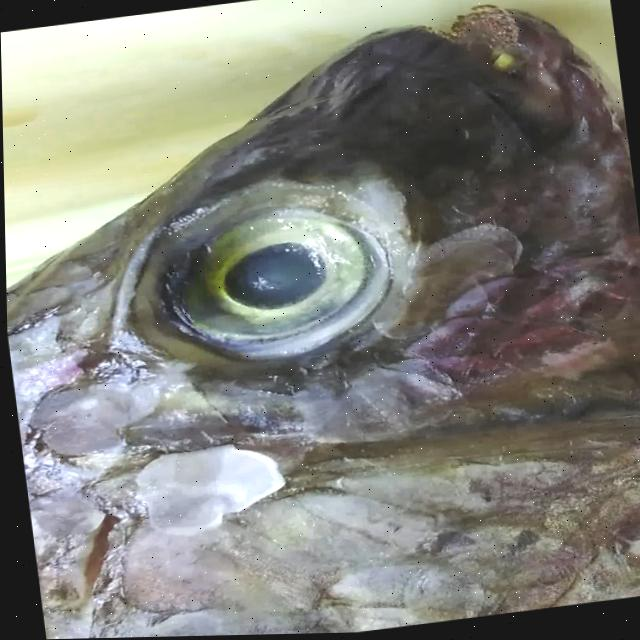Non-Fresh: (32, 339, 640, 640), (124, 165, 405, 384)
